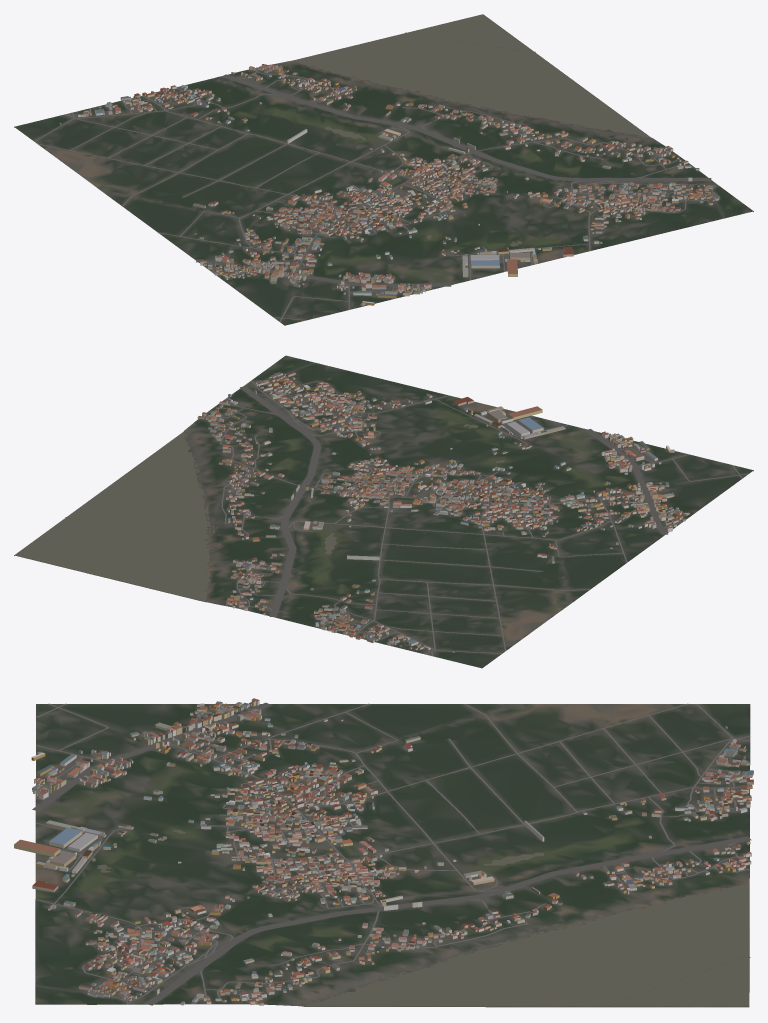
The picture shows the model from 3 angles, top to bottom: view 1: azimuth 30°, elevation 25°; view 2: azimuth 150°, elevation 25°; view 3: azimuth 270°, elevation 25°; orthographic projection. The views are drawn at different scales.
Visible parts, largest first — view 1: ground, buildings, water, roads; view 2: ground, buildings, water, roads; view 3: ground, buildings, water, roads.
Boxes of the visible parts, bbox=[...] form: ground: bbox=[14, 22, 753, 325]; buildings: bbox=[59, 64, 719, 305]; water: bbox=[292, 14, 650, 246]; roads: bbox=[34, 66, 718, 322]; ground: bbox=[14, 355, 753, 668]; buildings: bbox=[197, 371, 689, 652]; water: bbox=[15, 424, 504, 601]; roads: bbox=[204, 375, 748, 656]; ground: bbox=[35, 704, 750, 1007]; buildings: bbox=[14, 698, 753, 1005]; water: bbox=[97, 830, 750, 1007]; roads: bbox=[32, 702, 751, 1005].
Size of the model in its own units: 1410 by 20.67 by 1452.
